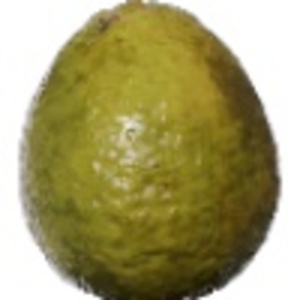goiaba: (12, 2, 280, 299)
